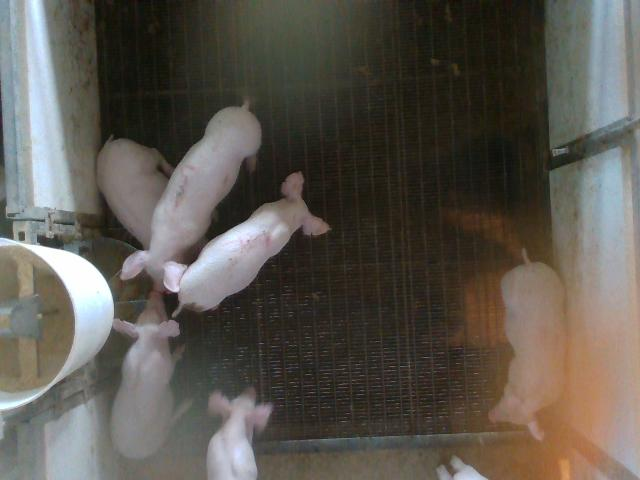pig-3: (122, 104, 261, 292)
pig-4: (489, 249, 565, 439)
pig-5: (175, 172, 330, 316)
